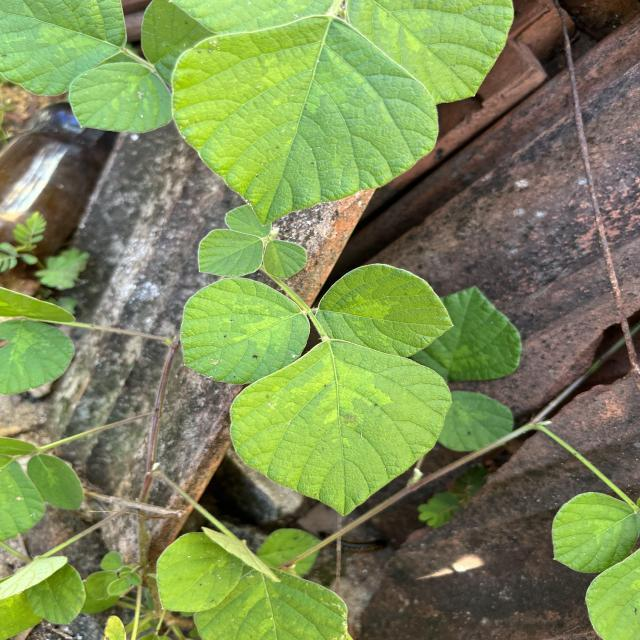Pseudarthria viscida: (178, 262, 456, 518), (198, 203, 308, 279)
